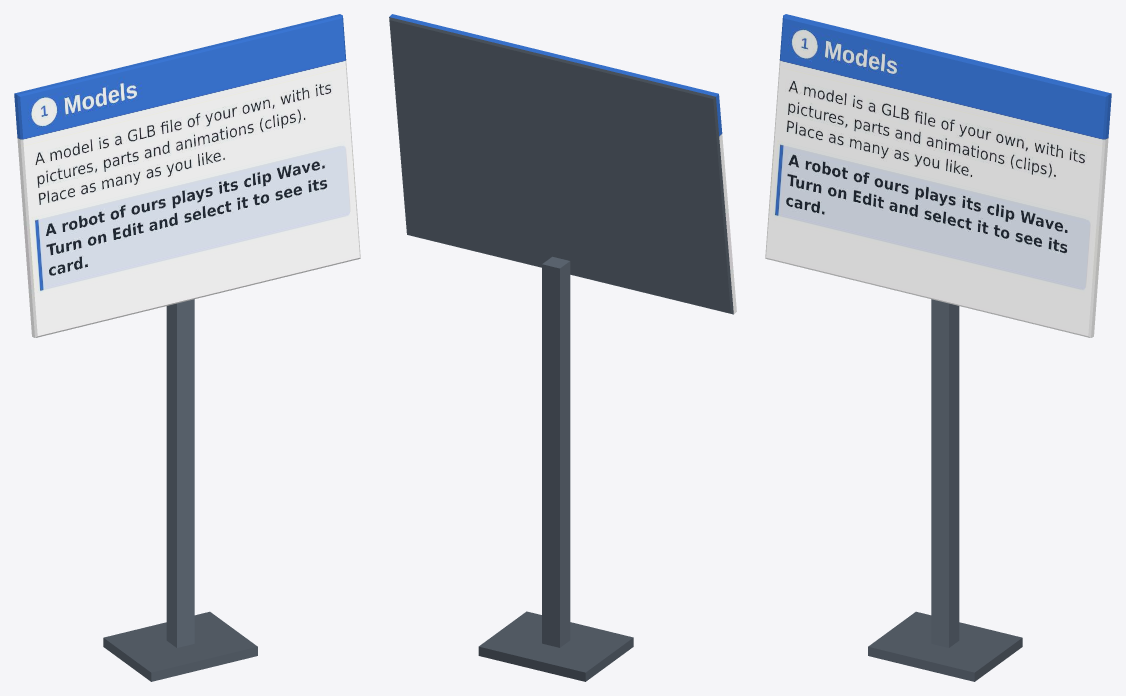
The model's file is 01-models.glb.
The picture shows the model from 3 angles, left to right: view 1: azimuth 30°, elevation 25°; view 2: azimuth 150°, elevation 25°; view 3: azimuth 330°, elevation 25°; orthographic projection.
Parts seen in each view (by area): view 1: board; view 2: board; view 3: board.
Boxes of the visible parts, bbox=[...] form: board: bbox=[14, 14, 360, 681]; board: bbox=[389, 14, 736, 681]; board: bbox=[765, 14, 1111, 681].
Bounding box in the file's own units: 1.1 × 1.92 × 0.28.
Materials: 1 (1 with a texture image).
